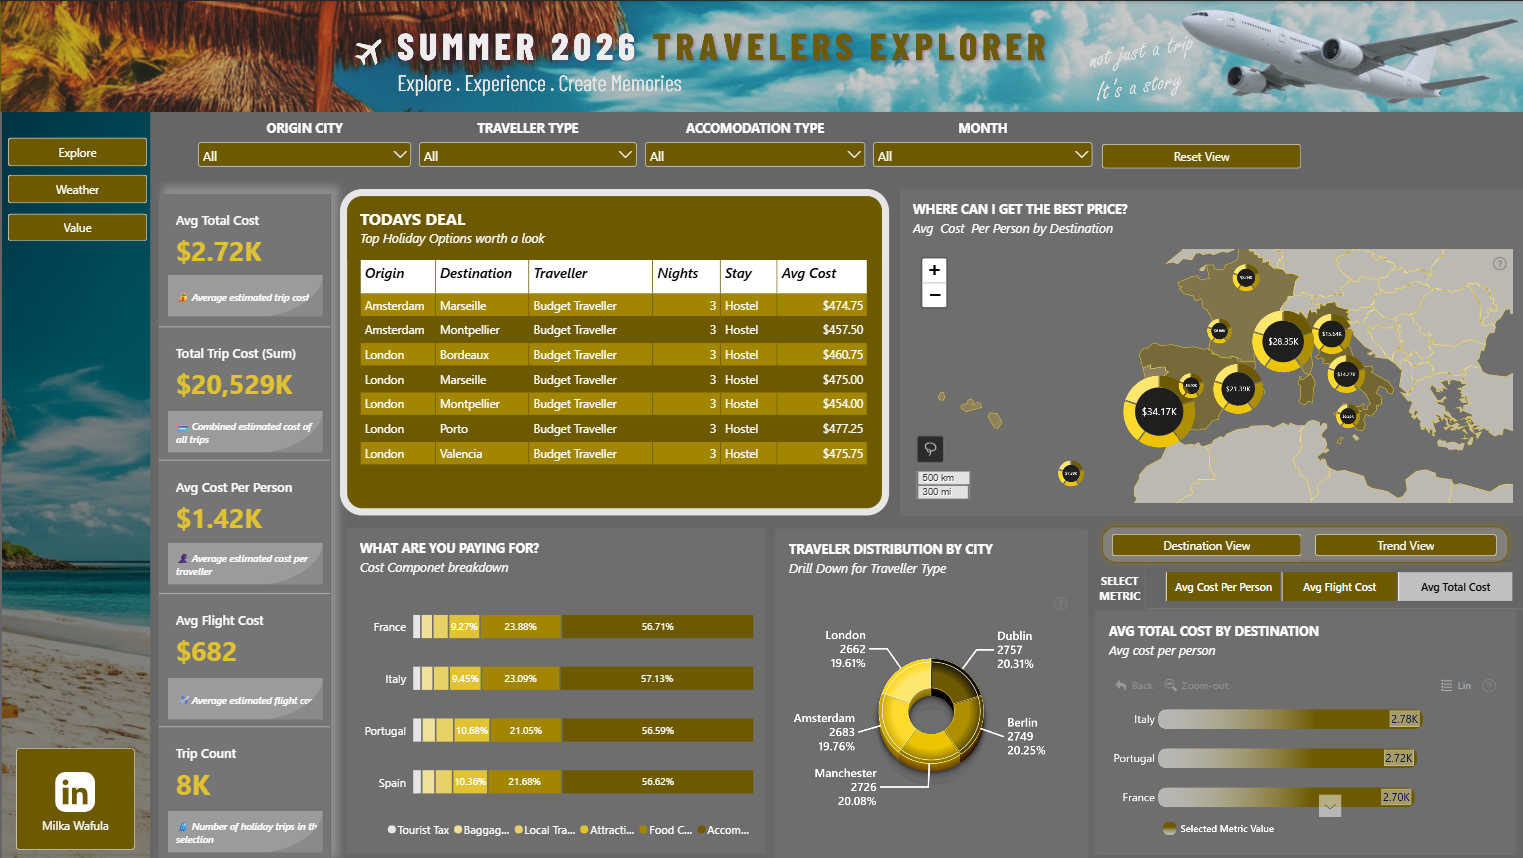

The page's visual inventory and layout, read from the dashboard file:
{"tool":"powerbi","page":{"name":"Cost Explorer","canvas":[1920,1080],"ordinal":0},"visuals":[{"type":"cardVisual","fields":{"Data":["Dim_Accommodation_Type.Avg Total Cost","Dim_Accommodation_Type.Total Trip Cost (Sum)","Dim_Accommodation_Type.Avg Cost Per Person","Dim_Accommodation_Type.Avg Flight Cost","Dim_Accommodation_Type.Trip Count"]},"box":[199.8,241.7,214.7,837.1],"z":0},{"type":"ZoomChartsDrillDownMapPro6AFEEB10499543F282BD06EF315D5EAA","title":"WHERE  CAN I GET THE BEST PRICE?","fields":{"latitude":["Dim_Destination.Latitude"],"longitude":["Dim_Destination.Longitude"],"value":["Dim_Accommodation_Type.Avg Cost Per Person"],"category":["Dim_Holiday_Category.CategoryGroup"],"name":["Dim_Destination.Country"]},"box":[1113.7,241.9,797.2,403.2],"z":1000},{"type":"ZoomChartsDrillDownComboBarProE77E4ED357DC402ABA005987437CF8","fields":{"Values1":["Dim_Destination.Selected Metric Value"],"Category":["Dim_Destination.Country"]},"box":[1373.6,764.9,525.2,303],"z":2000},{"type":"hundredPercentStackedBarChart","title":"WHAT ARE YOU PAYING FOR?","fields":{"Category":["Dim_Destination.Country"],"Y":["Dim_Accommodation_Type.Avg Tourist Tax","Dim_Accommodation_Type.Avg Baggage Cost","Dim_Accommodation_Type.Avg Local Transport Cost","Dim_Accommodation_Type.Avg Attraction Cost","Dim_Accommodation_Type.Avg Food Cost","Dim_Accommodation_Type.Avg Accommodation Cost"]},"box":[435,659.9,525.2,408],"z":6000},{"type":"tableEx","title":"TODAYS DEAL","fields":{"Values":["Top_Deals_Summary.OriginCity","Top_Deals_Summary.City","Top_Deals_Summary.TravellerType","Sum(Top_Deals_Summary.TripDurationNights)","Top_Deals_Summary.AccommodationType","Top_Deals_Summary.Avg Cost Per Person"]},"box":[435,241,678.7,412.1],"z":7000},{"type":"slicer","fields":{"Values":["Metric Selector.Metric"]},"box":[1435.5,707,475.4,57.9],"z":10000},{"type":"shape","box":[189,139.1,1729.6,86.4],"z":11000},{"type":"slicer","title":"ACCOMODATION TYPE","fields":{"Values":["Dim_Accommodation_Type.AccommodationType"]},"box":[803.1,148.1,286,77],"z":12000},{"type":"slicer","title":"TRAVELLER TYPE","fields":{"Values":["Dim_Traveller_Type.TravellerType"]},"box":[520.4,148.1,282.6,77.5],"z":13000},{"type":"slicer","title":"ORIGIN CITY","fields":{"Values":["Dim_Origin.OriginCity"]},"box":[243.2,148.1,277.2,77.5],"z":14000},{"type":"slicer","title":"MONTH","fields":{"Values":["Dim_Date.YearMonth.Variation.Date Hierarchy.Month"]},"box":[1088.4,148.1,285.4,77.5],"z":15000},{"type":"shape","box":[1361.6,645.1,549.2,71.5],"z":16000},{"type":"actionButton","box":[1628.1,662.5,268,37.7],"z":17000},{"type":"actionButton","box":[1373.6,662.5,277.4,37.7],"z":18000},{"type":"textbox","box":[1361.6,712,82.1,48.5],"z":19000},{"type":"cardVisual","fields":{"Data":["Dim_Accommodation_Type.Subtitle Avg Total Cost"]},"box":[210.6,343,194.4,52.7],"z":21000},{"type":"image","box":[2.7,138.7,185.8,941.3],"z":23001},{"type":"actionButton","box":[0,164.3,199.3,49.8],"z":23002},{"type":"actionButton","box":[0,210.1,199.3,49.8],"z":23003},{"type":"actionButton","box":[0,259.9,199.3,48.5],"z":23004},{"type":"actionButton","box":[1361,174.2,289.4,40.8],"z":23005},{"type":"image","box":[0,0,1919,138.7],"z":23006},{"type":"cardVisual","fields":{"Data":["Dim_Accommodation_Type.Subtitle Total Trip Cost"]},"box":[210.6,513.1,194.4,52.7],"z":23007},{"type":"cardVisual","fields":{"Data":["Dim_Accommodation_Type.Subtitle Avg Cost Per Person"]},"box":[210.6,679.2,194.4,52.7],"z":23008},{"type":"cardVisual","fields":{"Data":["Dim_Accommodation_Type.Subtitle Avg Flight Cost"]},"box":[210.6,847.9,194.4,52.7],"z":23009},{"type":"cardVisual","fields":{"Data":["Dim_Accommodation_Type.Subtitle Trip Count"]},"box":[210.6,1015.4,194.4,52.7],"z":23010},{"type":"actionButton","box":[0,930.3,189,137.7],"z":23011},{"type":"image","box":[35.1,965.4,117.5,50],"z":23012},{"type":"ZoomChartsPieChartPaidE77E4ED357DC402ABA005987437CF500","title":"TRAVELER DISTRIBUTION BY CITY","fields":{"Category":["Dim_Origin.OriginCity","Dim_Traveller_Type.TravellerType"],"Values":["Dim_Destination.Selected Metric Value"]},"box":[972.2,661.8,389.5,416.9],"z":23014}]}

Visuals, with their boxes in screenshot pixels (x1, y1, x2, y2), scaled from the page's 1920x1080 canvas onto the 1523x858 screenshot:
cardVisual - Dim_Accommodation_Type.Avg Total Cost x Dim_Accommodation_Type.Total Trip Cost (Sum): {"x1": 158, "y1": 192, "x2": 329, "y2": 857}
"WHERE  CAN I GET THE BEST PRICE?" ZoomChartsDrillDownMapPro6AFEEB10499543F282BD06EF315D5EAA: {"x1": 883, "y1": 192, "x2": 1516, "y2": 512}
ZoomChartsDrillDownComboBarProE77E4ED357DC402ABA005987437CF8 - Dim_Destination.Selected Metric Value x Dim_Destination.Country: {"x1": 1090, "y1": 608, "x2": 1506, "y2": 848}
"WHAT ARE YOU PAYING FOR?" hundredPercentStackedBarChart: {"x1": 345, "y1": 524, "x2": 762, "y2": 848}
"TODAYS DEAL" tableEx: {"x1": 345, "y1": 191, "x2": 883, "y2": 519}
slicer - Metric Selector.Metric: {"x1": 1139, "y1": 562, "x2": 1516, "y2": 608}
shape: {"x1": 150, "y1": 111, "x2": 1522, "y2": 179}
"ACCOMODATION TYPE" slicer: {"x1": 637, "y1": 118, "x2": 864, "y2": 179}
"TRAVELLER TYPE" slicer: {"x1": 413, "y1": 118, "x2": 637, "y2": 179}
"ORIGIN CITY" slicer: {"x1": 193, "y1": 118, "x2": 413, "y2": 179}
"MONTH" slicer: {"x1": 863, "y1": 118, "x2": 1090, "y2": 179}
shape: {"x1": 1080, "y1": 512, "x2": 1516, "y2": 569}
actionButton: {"x1": 1291, "y1": 526, "x2": 1504, "y2": 556}
actionButton: {"x1": 1090, "y1": 526, "x2": 1310, "y2": 556}
textbox: {"x1": 1080, "y1": 566, "x2": 1145, "y2": 604}
cardVisual - Dim_Accommodation_Type.Subtitle Avg Total Cost: {"x1": 167, "y1": 272, "x2": 321, "y2": 314}
image: {"x1": 2, "y1": 110, "x2": 150, "y2": 857}
actionButton: {"x1": 0, "y1": 131, "x2": 158, "y2": 170}
actionButton: {"x1": 0, "y1": 167, "x2": 158, "y2": 206}
actionButton: {"x1": 0, "y1": 206, "x2": 158, "y2": 245}
actionButton: {"x1": 1080, "y1": 138, "x2": 1309, "y2": 171}
image: {"x1": 0, "y1": 0, "x2": 1522, "y2": 110}
cardVisual - Dim_Accommodation_Type.Subtitle Total Trip Cost: {"x1": 167, "y1": 408, "x2": 321, "y2": 449}
cardVisual - Dim_Accommodation_Type.Subtitle Avg Cost Per Person: {"x1": 167, "y1": 540, "x2": 321, "y2": 581}
cardVisual - Dim_Accommodation_Type.Subtitle Avg Flight Cost: {"x1": 167, "y1": 674, "x2": 321, "y2": 715}
cardVisual - Dim_Accommodation_Type.Subtitle Trip Count: {"x1": 167, "y1": 807, "x2": 321, "y2": 849}
actionButton: {"x1": 0, "y1": 739, "x2": 150, "y2": 848}
image: {"x1": 28, "y1": 767, "x2": 121, "y2": 807}
"TRAVELER DISTRIBUTION BY CITY" ZoomChartsPieChartPaidE77E4ED357DC402ABA005987437CF500: {"x1": 771, "y1": 526, "x2": 1080, "y2": 857}
